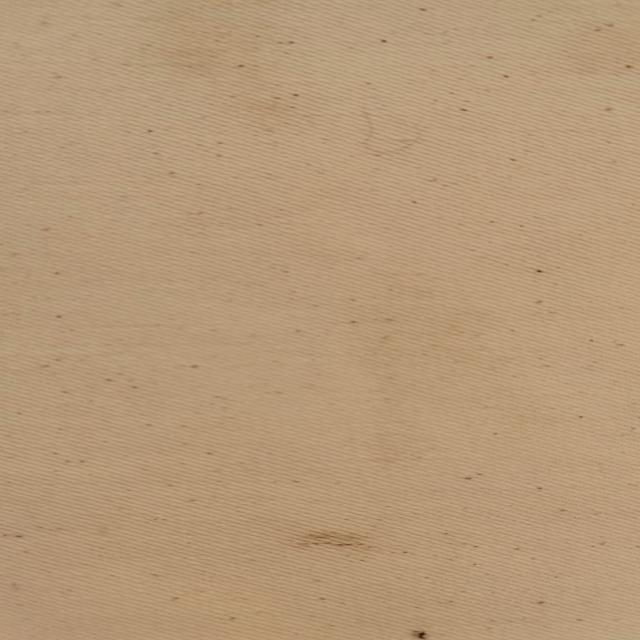taaaches: (273, 528, 424, 571)
